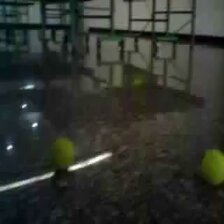tennis: (200, 148, 224, 186), (52, 135, 75, 171)
